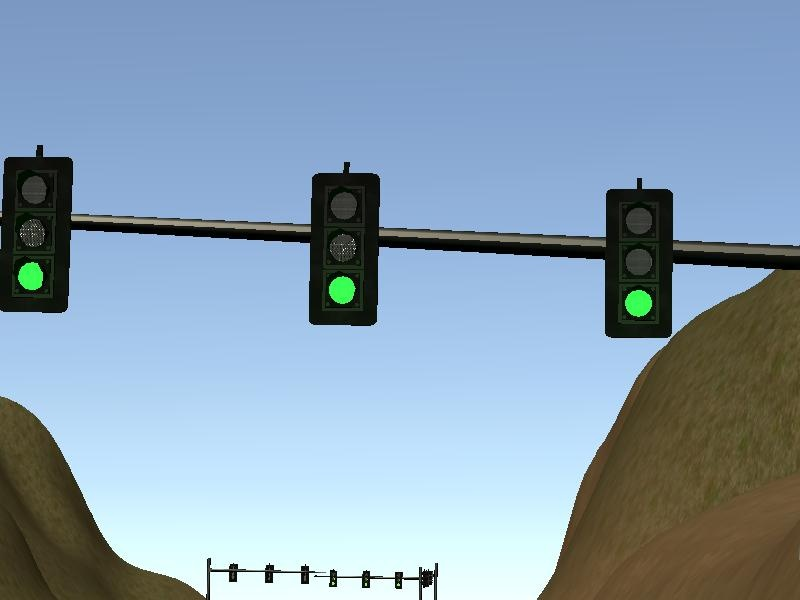green: (600, 185, 678, 346), (1, 149, 75, 318), (306, 171, 384, 329)
